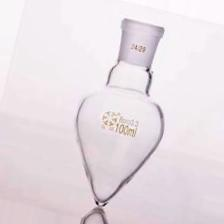Pear shaped flask: (63, 7, 181, 204)
